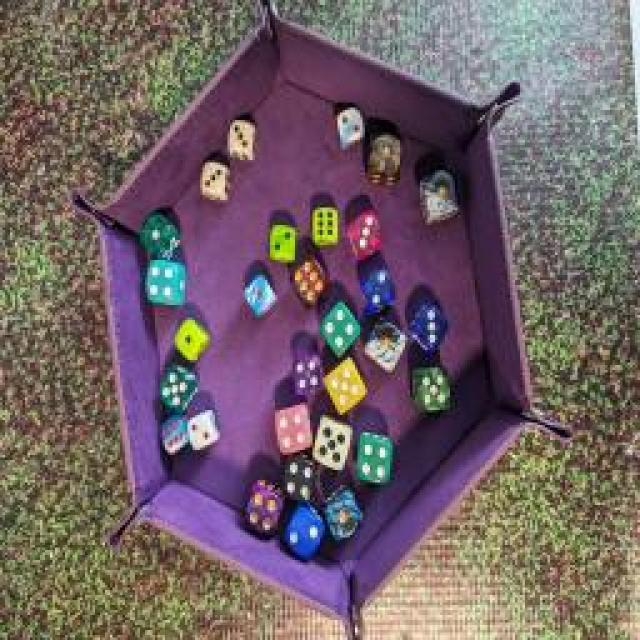dice_1: (415, 164, 463, 228), (360, 129, 408, 186), (321, 481, 364, 544), (365, 314, 407, 376), (138, 210, 184, 265), (170, 316, 212, 364), (242, 271, 280, 324)
dice_2: (286, 497, 326, 565), (359, 264, 399, 314), (186, 402, 224, 450), (268, 220, 302, 268), (334, 104, 366, 154)
dice_3: (345, 201, 385, 264), (406, 301, 446, 354), (195, 156, 235, 202), (225, 115, 260, 163)
dice_4: (317, 294, 365, 361), (243, 478, 285, 540), (144, 254, 188, 311), (355, 432, 397, 488), (278, 449, 318, 506), (272, 402, 312, 452), (291, 348, 321, 402)
dice_5: (307, 414, 355, 471), (326, 350, 369, 412), (156, 362, 199, 418), (410, 361, 452, 414)
dice_6: (291, 248, 331, 314), (156, 410, 189, 462), (310, 202, 340, 250)
